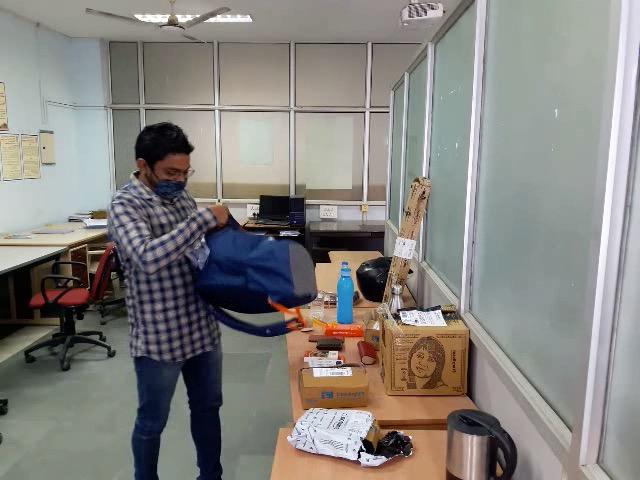shoplifting: (183, 204, 311, 324)
